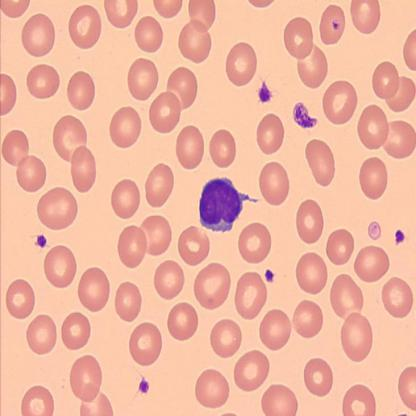Lymphocyte: (198, 175, 258, 233)
